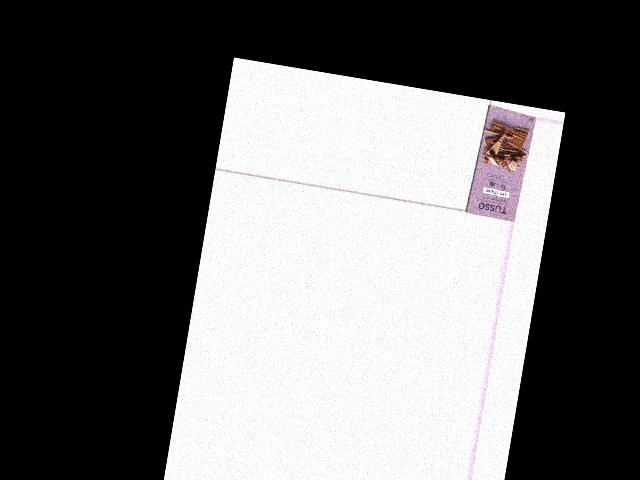chocolate: (468, 104, 534, 220)
